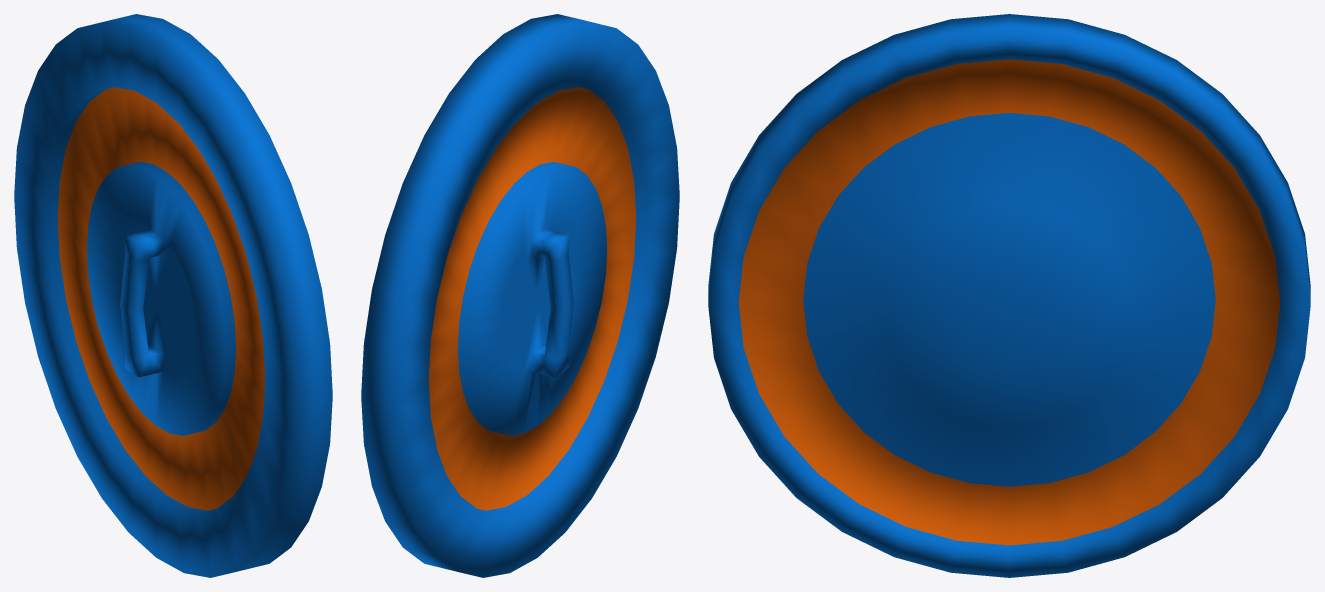
File: Shield.fbx
3 renders of one model, left to right at view 1: azimuth 30°, elevation 25°; view 2: azimuth 150°, elevation 25°; view 3: azimuth 270°, elevation 25°, orthographic. The views are drawn at different scales.
Visible parts, largest first — view 1: Shield; view 2: Shield; view 3: Shield.
Part boxes in pixels (x1,y1,x2,y2): Shield: (14, 14, 332, 577); Shield: (361, 14, 679, 577); Shield: (708, 14, 1310, 577).
Size of the model in its own units: 20.08 by 100 by 100.
